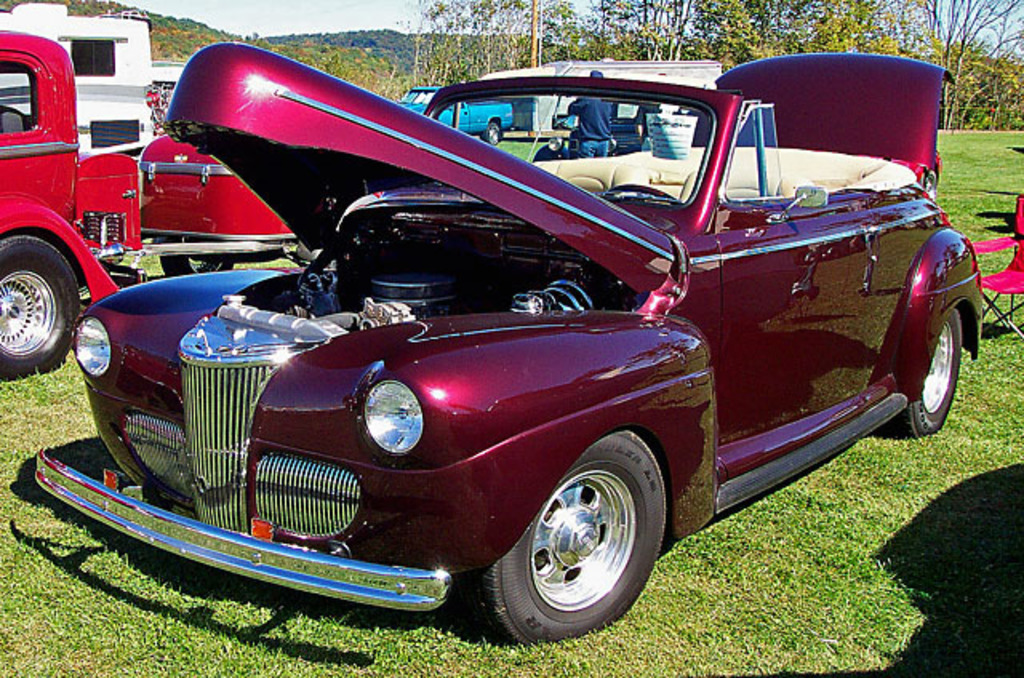Car: (0, 3, 990, 633)
